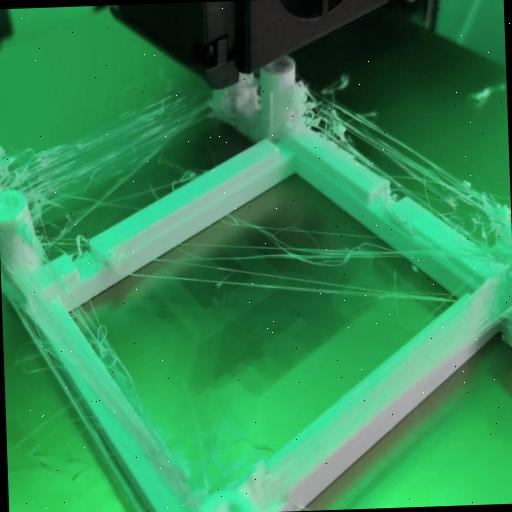stringing: (294, 78, 507, 239), (0, 73, 204, 232), (145, 231, 500, 278), (149, 260, 437, 306), (66, 290, 137, 398)
